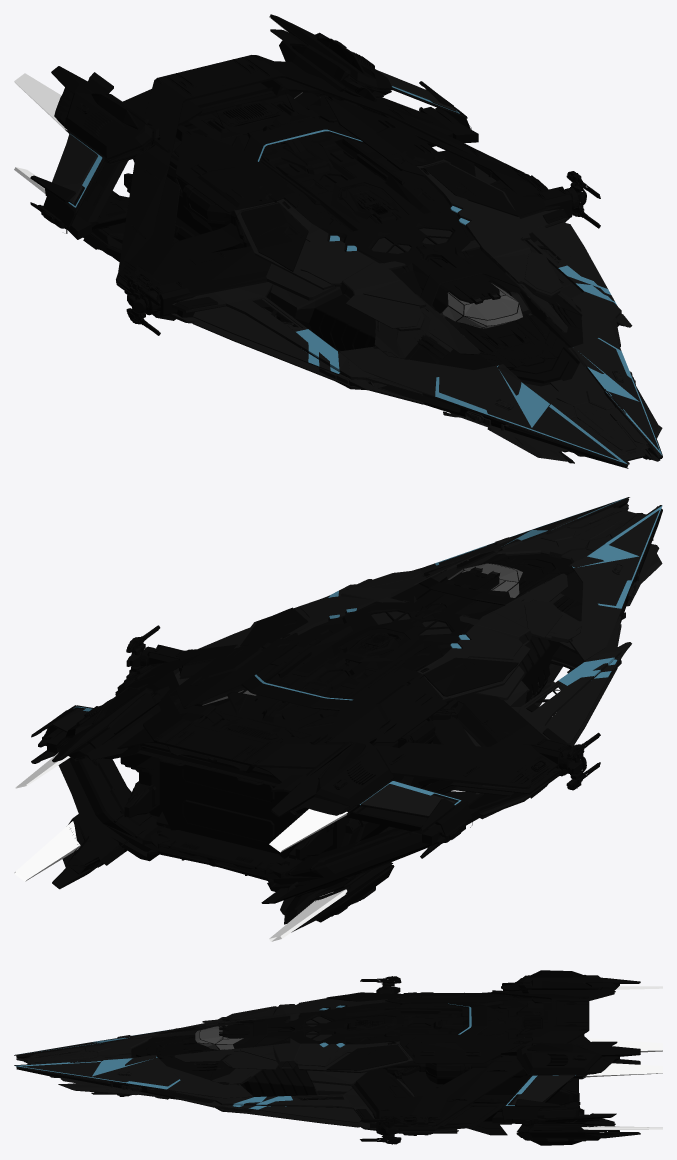
The model's file is Polruan.fbx.
3 renders of one model, top to bottom at view 1: azimuth 30°, elevation 25°; view 2: azimuth 150°, elevation 25°; view 3: azimuth 270°, elevation 25°, orthographic. The views are drawn at different scales.
Parts seen in each view (by area): view 1: 52; view 2: 52; view 3: 52.
Boxes of the visible parts, x1,y1,x2,y2 form: 52: [14, 14, 662, 468]; 52: [14, 497, 662, 941]; 52: [14, 970, 662, 1145].
Bounding box in the file's own units: 6020 × 2000 × 11425.
